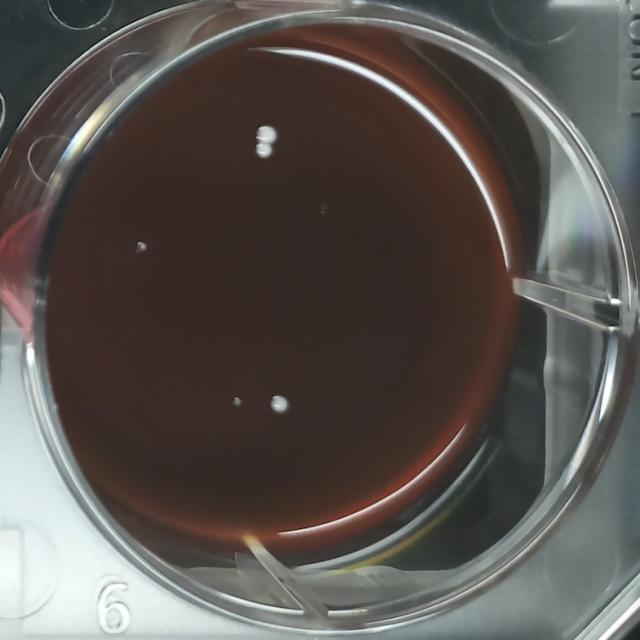Staphylococcus: (252, 120, 279, 148), (266, 390, 292, 417), (254, 139, 275, 161)
